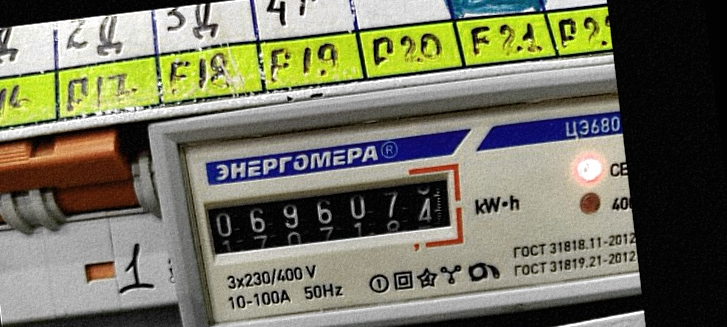0: (212, 209, 236, 239), (347, 190, 369, 221), (248, 205, 267, 233)
4: (415, 195, 435, 225)
6: (313, 194, 334, 226)
7: (380, 187, 402, 218)
9: (280, 200, 301, 230)
screen: (188, 159, 470, 275)
